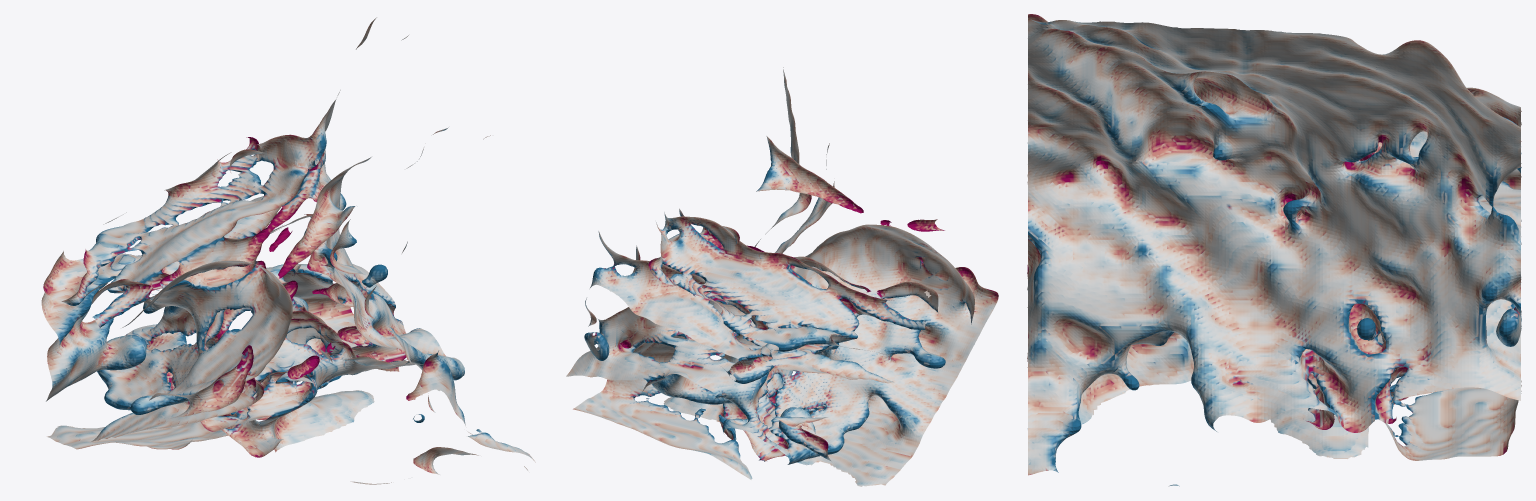
File: crop1071_curvature.glb
3 views of the same model, side by side, from view 1: azimuth 30°, elevation 25°; view 2: azimuth 150°, elevation 25°; view 3: azimuth 270°, elevation 25° (orthographic). The views are drawn at different scales.
Visible parts, largest first — view 1: world; view 2: world; view 3: world.
Boxes of the visible parts, x1=… form: world: x1=41, y1=17, x2=535, y2=484; world: x1=566, y1=67, x2=998, y2=486; world: x1=1027, y1=14, x2=1521, y2=486.
Bounding box in the file's own units: 2280 × 2280 × 2280.
